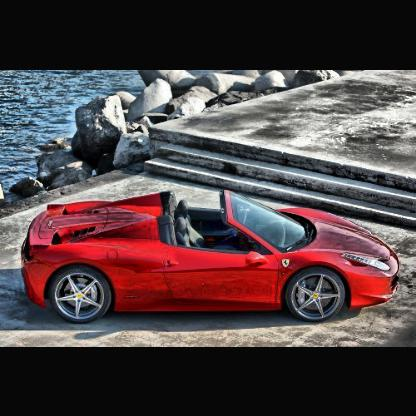Ferrari 458 Italia Convertible 2012: (20, 188, 406, 326)
